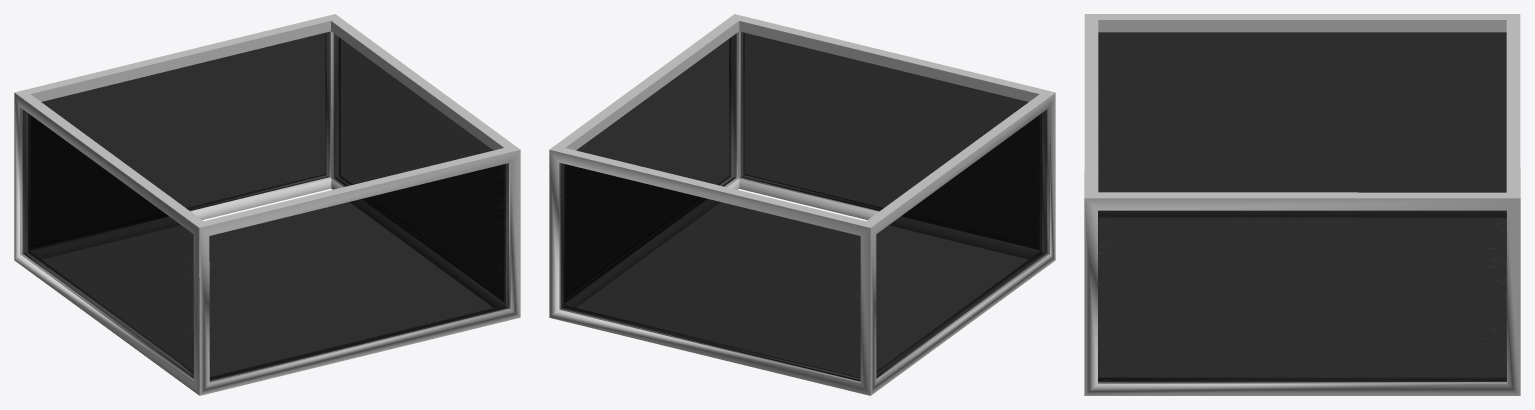
Rendered from glass_2x2x1.fbx.
3 views of the same model, side by side, from view 1: azimuth 30°, elevation 25°; view 2: azimuth 150°, elevation 25°; view 3: azimuth 270°, elevation 25° (orthographic). The views are drawn at different scales.
Parts seen in each view (by area): view 1: glass_2x2x1; view 2: glass_2x2x1; view 3: glass_2x2x1.
Boxes of the visible parts, <box> form: glass_2x2x1: <box>14,14,520,395</box>; glass_2x2x1: <box>549,14,1055,395</box>; glass_2x2x1: <box>1084,14,1520,395</box>.
Size of the model in its own units: 80.03 by 40.01 by 80.
